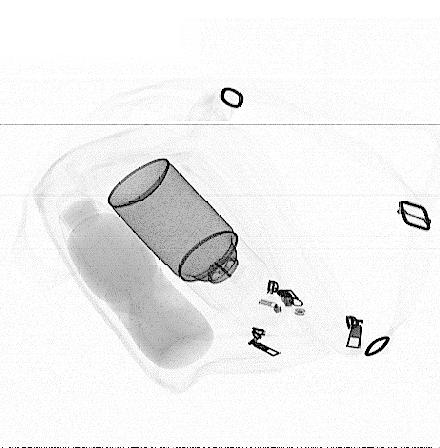Sprayer: (108, 158, 273, 317)
